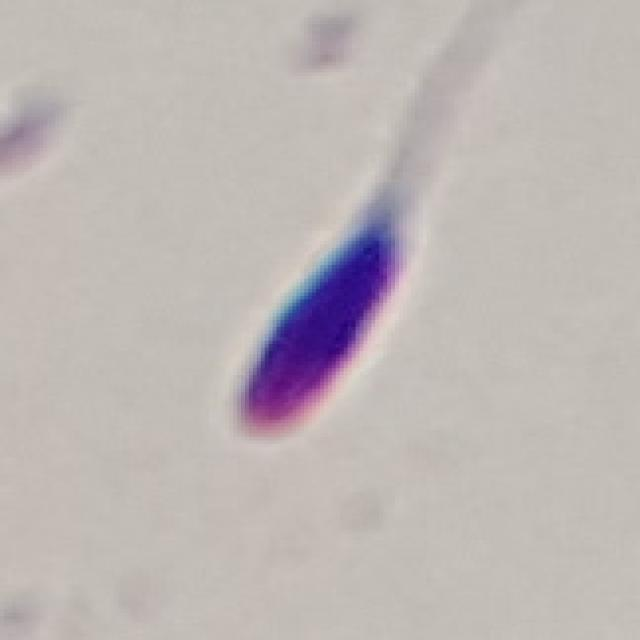abnormal sperm: (220, 26, 498, 451)
